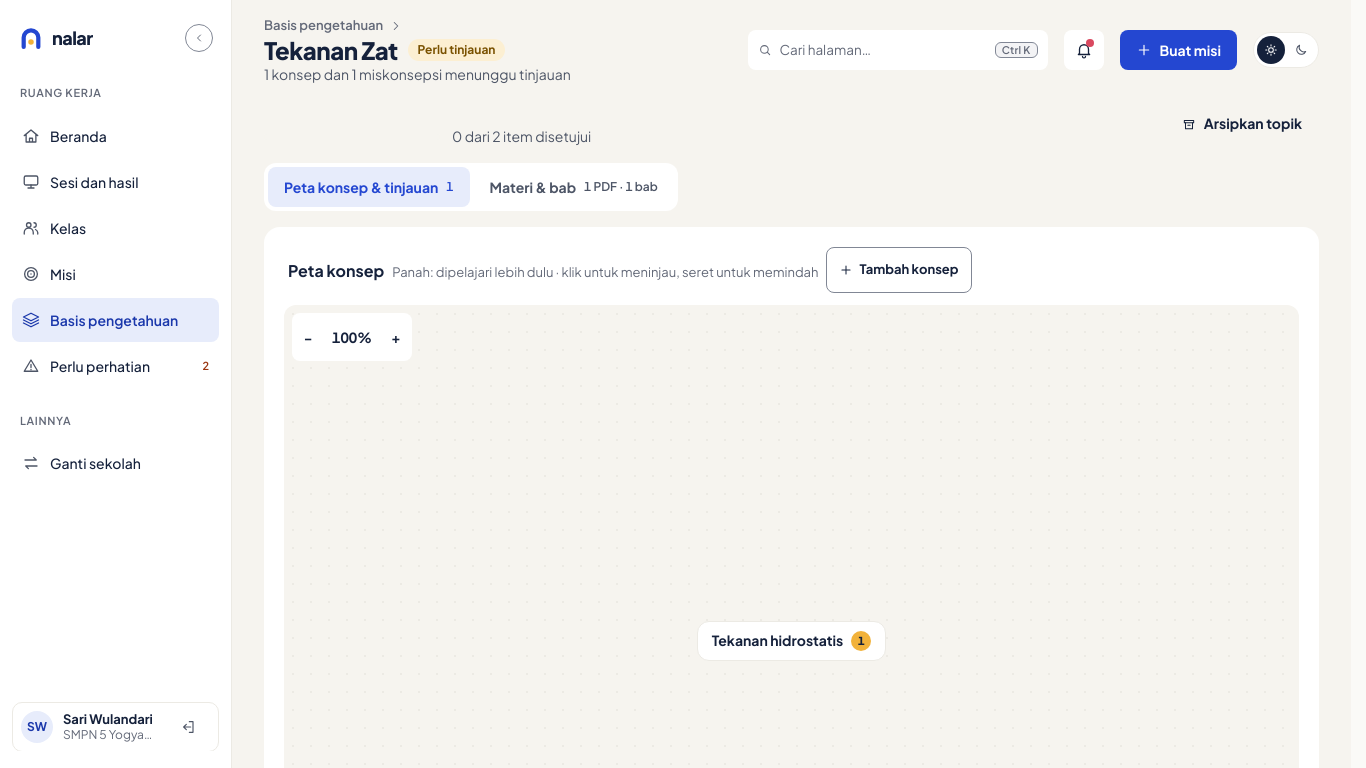
signed-in teacher pages › approves the concept before its misconception, sending the decision once
The width and height of the screenshot is (1366, 768).
What coordinates should you click on to do the following:
click the button "Tekanan hidrostatis 1"
I would click on:
 (792, 641)
Its box is x1=697 y1=621 x2=886 y2=661.
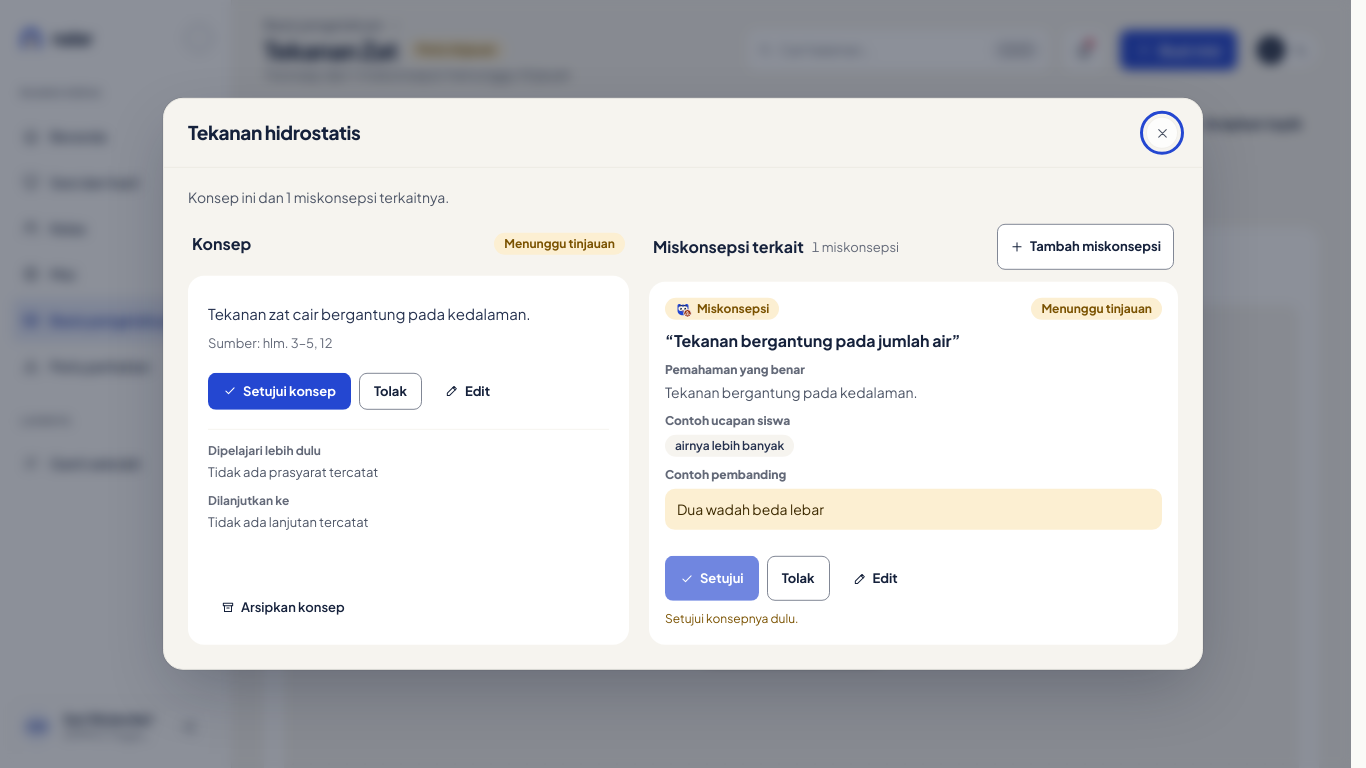
expect the element named "Konsep: Tekanan hidrostatis" is shown: met, box x1=188 y1=276 x2=629 y2=645
expect the button "Setujui" is disabled: met, box x1=665 y1=556 x2=759 y2=601
What coordinates should you click on to do the following:
click the button "Setujui konsep"
I would click on:
 (280, 391)
Its box is x1=208 y1=372 x2=351 y2=410.
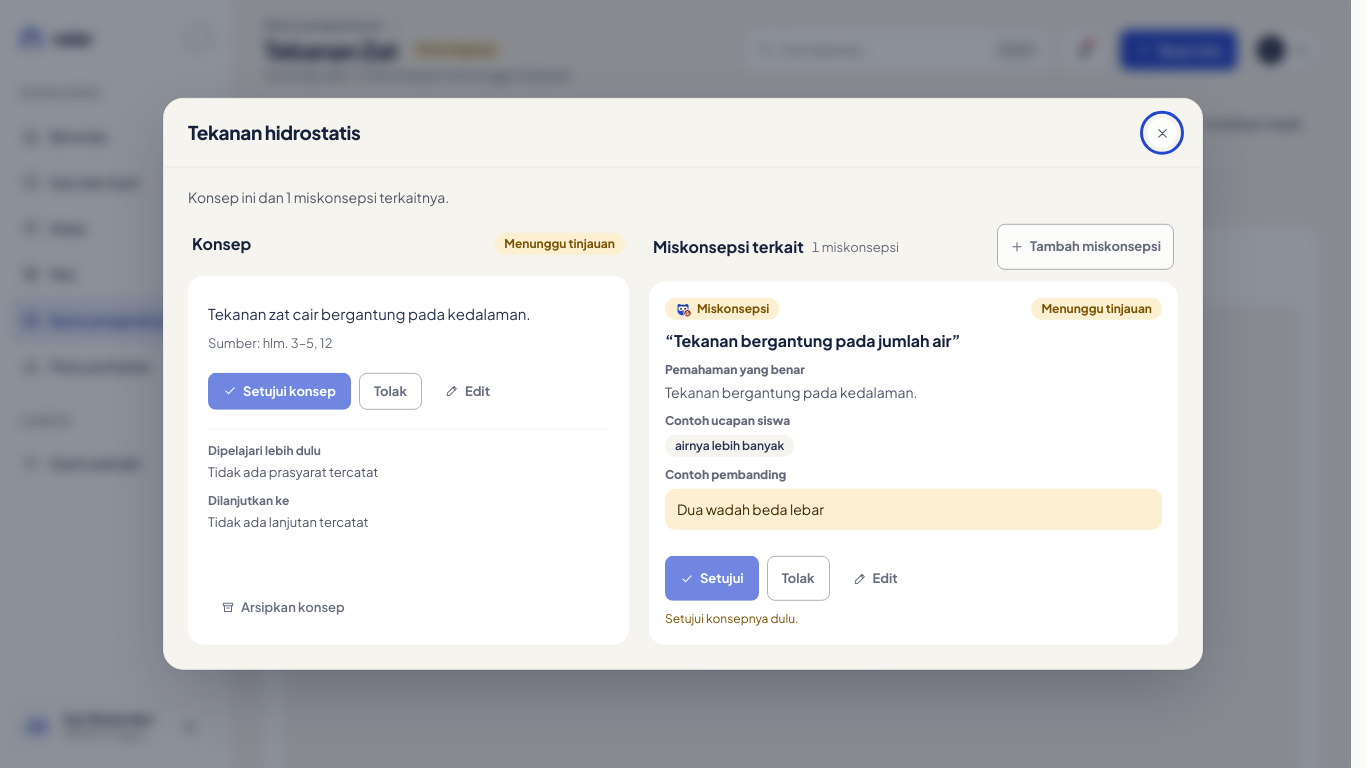
What coordinates should you click on to do the following:
click the button "Setujui konsep"
I would click on:
 (280, 391)
Its box is x1=208 y1=372 x2=351 y2=410.
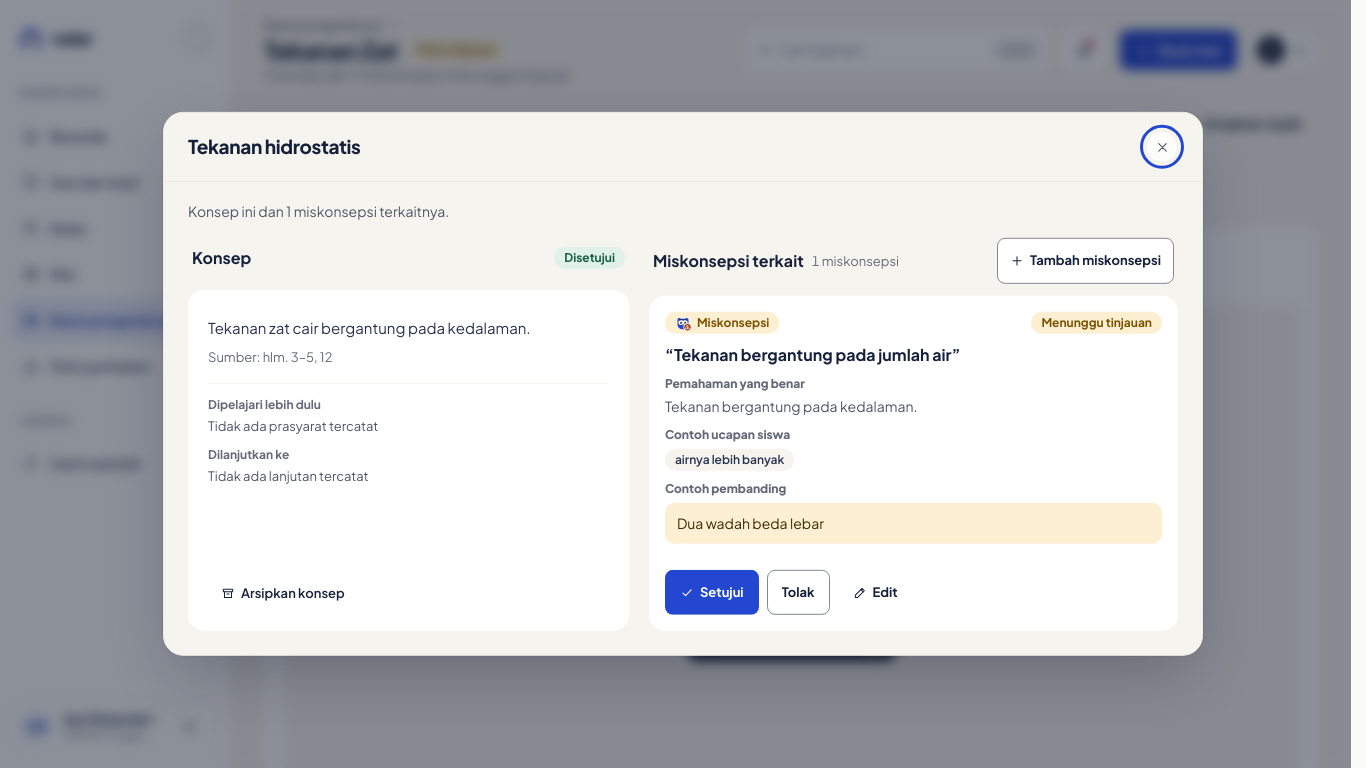
expect the button "Setujui" is enabled: met, box x1=665 y1=570 x2=759 y2=615
